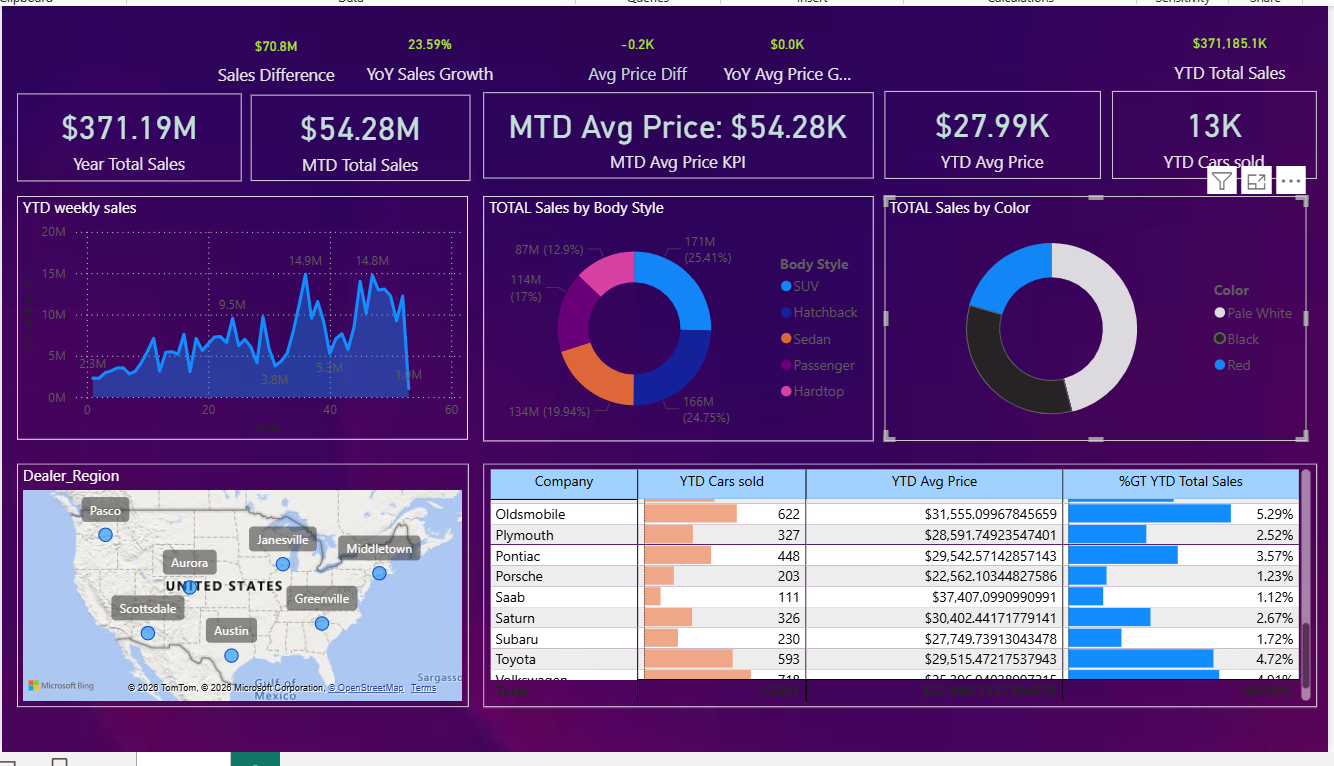

This screenshot's page, from the dashboard's own definition file:
{"tool":"powerbi","page":{"name":"Page 1","canvas":[1280,720],"ordinal":0},"visuals":[{"type":"card","fields":{"Values":["car_data.Year Total Sales"]},"box":[14.5,84.5,217.2,84.5],"z":0},{"type":"card","fields":{"Values":["car_data.YoY Sales Growth"]},"box":[346.2,15.7,133.9,67.6],"z":1000},{"type":"card","fields":{"Values":["car_data.MTD Total Sales"]},"box":[240,86.1,211.7,83.3],"z":2000},{"type":"card","fields":{"Values":["car_data.Sales Difference"]},"box":[197.9,16.9,133.9,67.6],"z":3000},{"type":"card","fields":{"Values":["car_data.Avg Price Diff"]},"box":[546.5,15.7,133.9,67.6],"z":4000},{"type":"card","fields":{"Values":["car_data.YoY Avg Price Growth1"]},"box":[691.3,15.7,133.9,67.6],"z":5000},{"type":"card","fields":{"Values":["car_data.MTD Avg Price KPI"]},"box":[464.5,83.2,376.4,83.2],"z":6000},{"type":"card","fields":{"Values":["car_data.YTD Avg Price"]},"box":[851.7,82,208.7,84.5],"z":7000},{"type":"card","fields":{"Values":["car_data.YTD Cars sold"]},"box":[1071.3,82,197.9,84.5],"z":8000},{"type":"card","fields":{"Values":["car_data.YTD Total Sales"]},"box":[1118.4,14.5,133.9,67.6],"z":9000},{"type":"areaChart","title":"YTD weekly sales","fields":{"Category":["Calendar Table.Week"],"Y":["Sum(car_data.Price ($))"]},"box":[14.5,183.4,435.5,235.3],"z":10000},{"type":"donutChart","fields":{"Category":["car_data.Body Style"],"Y":["car_data.TOTAL Sales"]},"box":[464.5,183.4,376.4,236.5],"z":11000},{"type":"donutChart","fields":{"Y":["car_data.TOTAL Sales"],"Category":["car_data.Color"]},"box":[851.7,183.4,407.8,236.5],"z":12000},{"type":"map","fields":{"Category":["car_data.Dealer_Region"]},"box":[14,441.5,436,235],"z":13000},{"type":"tableEx","fields":{"Values":["car_data.Company","car_data.YTD Cars sold","car_data.YTD Avg Price","car_data.YTD Total Sales"]},"box":[464.5,441.6,804.7,235.3],"z":13001}]}

Visuals, with their boxes on the page's 1280x720 design canvas (x1, y1, x2, y2). These are canvas units, not pixel positions in the 1334x766 screenshot, which may show the page scaled, cropped or inside an application window:
card - car_data.Year Total Sales: 14, 84, 232, 169
card - car_data.YoY Sales Growth: 346, 16, 480, 83
card - car_data.MTD Total Sales: 240, 86, 452, 169
card - car_data.Sales Difference: 198, 17, 332, 84
card - car_data.Avg Price Diff: 546, 16, 680, 83
card - car_data.YoY Avg Price Growth1: 691, 16, 825, 83
card - car_data.MTD Avg Price KPI: 464, 83, 841, 166
card - car_data.YTD Avg Price: 852, 82, 1060, 166
card - car_data.YTD Cars sold: 1071, 82, 1269, 166
card - car_data.YTD Total Sales: 1118, 14, 1252, 82
"YTD weekly sales" areaChart: 14, 183, 450, 419
donutChart - car_data.Body Style x car_data.TOTAL Sales: 464, 183, 841, 420
donutChart - car_data.TOTAL Sales x car_data.Color: 852, 183, 1260, 420
map - car_data.Dealer_Region: 14, 442, 450, 676
tableEx - car_data.Company x car_data.YTD Cars sold: 464, 442, 1269, 677
